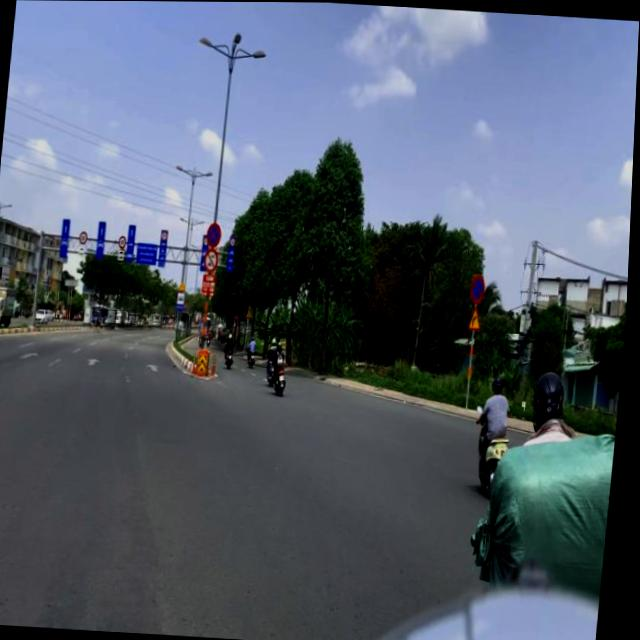Ben xe buyt: (179, 292, 188, 310)
Cam do xe: (471, 274, 489, 305)
Cam dung xe va do xe: (207, 222, 225, 248)
Nguoi di bo cat ngang: (248, 308, 256, 318)
Toc do toi da cho phep: (81, 231, 90, 244), (121, 235, 129, 248), (231, 237, 238, 247), (164, 231, 170, 241), (205, 237, 211, 246)
cho ngoat nguy hiem vong ben phai: (470, 305, 485, 331), (181, 280, 189, 292)
